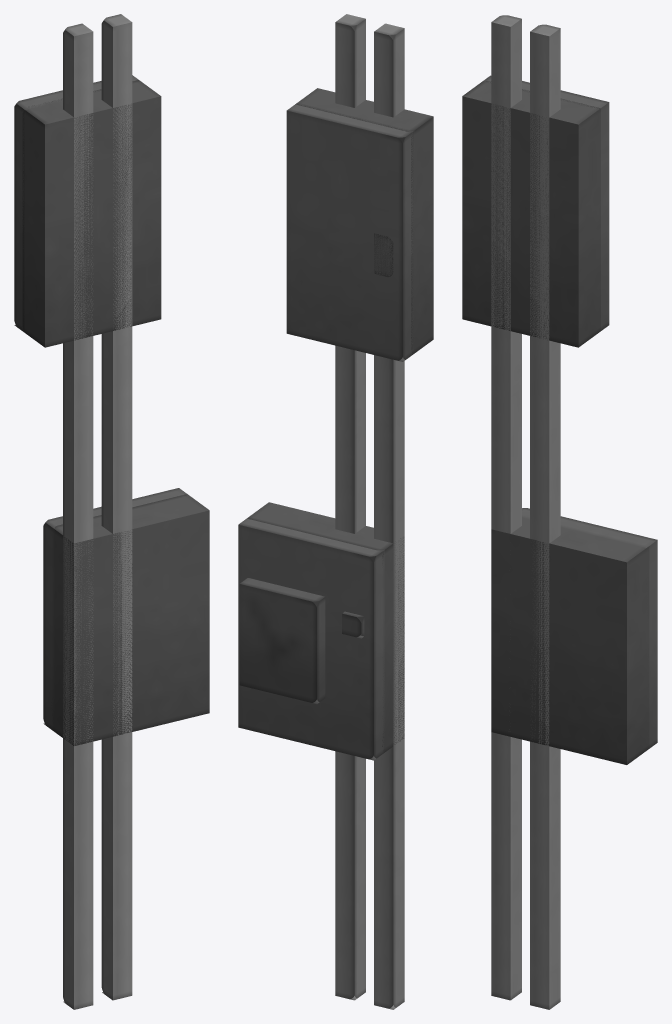
The model's file is electric_box2.obj.
3 views of the same model, side by side, from view 1: azimuth 30°, elevation 25°; view 2: azimuth 150°, elevation 25°; view 3: azimuth 330°, elevation 25° (orthographic).
Visible parts, largest first — view 1: nx, nB, nA, nz, nF, nC; view 2: nC, nF, nz, nA, ny, nB, nx, nE, nD; view 3: nx, nB, nA, nz, nF, nC.
Boxes of the visible parts, x1,y1,x2,y2 form: nx: [52, 494, 209, 745]; nB: [22, 80, 161, 347]; nA: [101, 14, 132, 1000]; nz: [63, 23, 93, 1009]; nF: [43, 488, 188, 731]; nC: [14, 75, 138, 332]; nC: [286, 103, 414, 361]; nF: [238, 518, 384, 760]; nz: [374, 23, 404, 1009]; nA: [335, 14, 365, 1000]; ny: [239, 578, 325, 703]; nB: [295, 88, 433, 353]; nx: [247, 502, 404, 751]; nE: [374, 233, 393, 276]; nD: [342, 611, 364, 638]; nx: [491, 517, 649, 764]; nB: [462, 81, 600, 347]; nA: [530, 24, 560, 1009]; nz: [491, 15, 521, 1000]; nF: [522, 508, 657, 750]; nC: [482, 75, 609, 330].
Bounding box in the file's own units: 0.5312 × 3 × 0.2188.
Materials: 1 (1 with a texture image).
